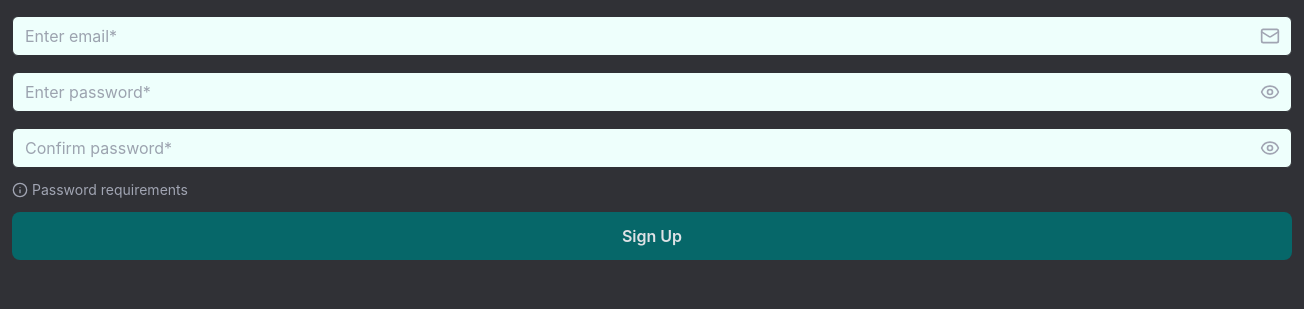
AuthForm Component › shows password validation errors on blur
Type "short" into the password field with placeholder "Enter password*" at (652, 92), box [12, 72, 1292, 112]
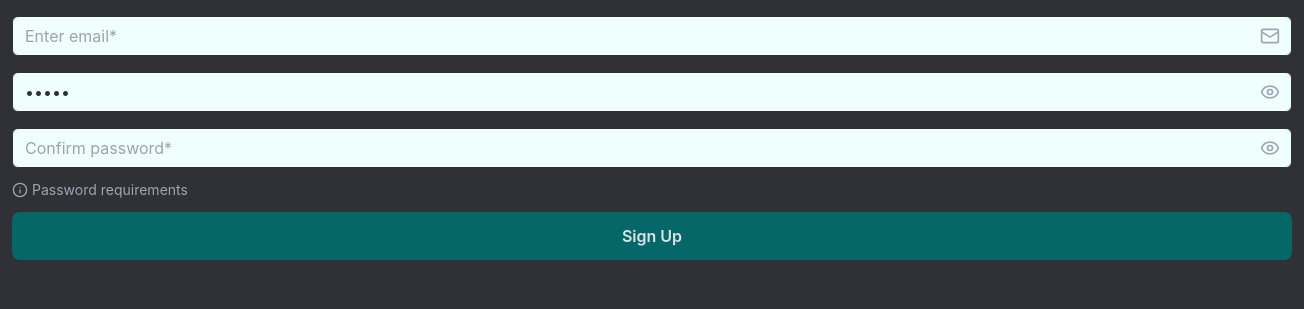
Leave the password field with placeholder "Enter password*", box [12, 72, 1292, 112]
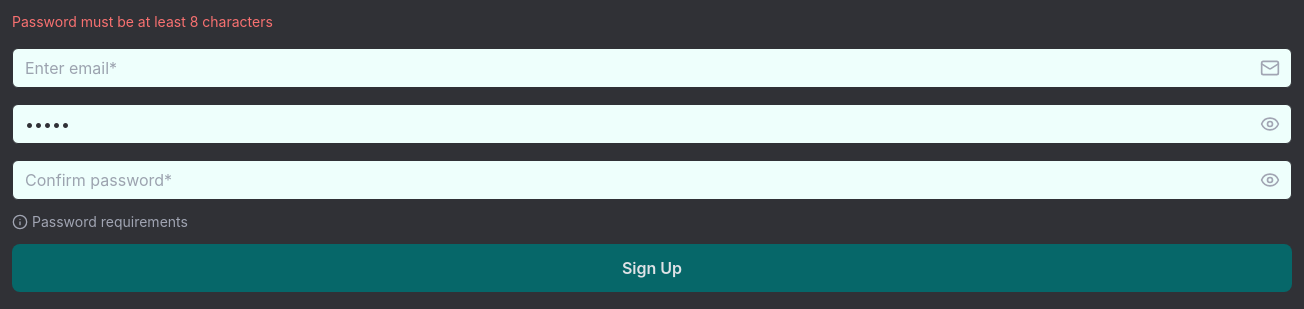
Check: the text "Password must be at least 8 characters" is shown, box [12, 13, 273, 30]
